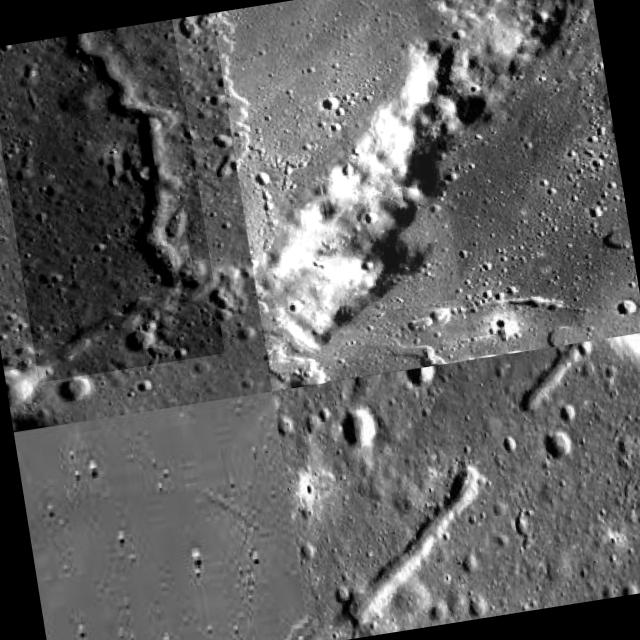rille: (212, 0, 472, 390), (0, 19, 225, 382), (13, 392, 310, 640)
